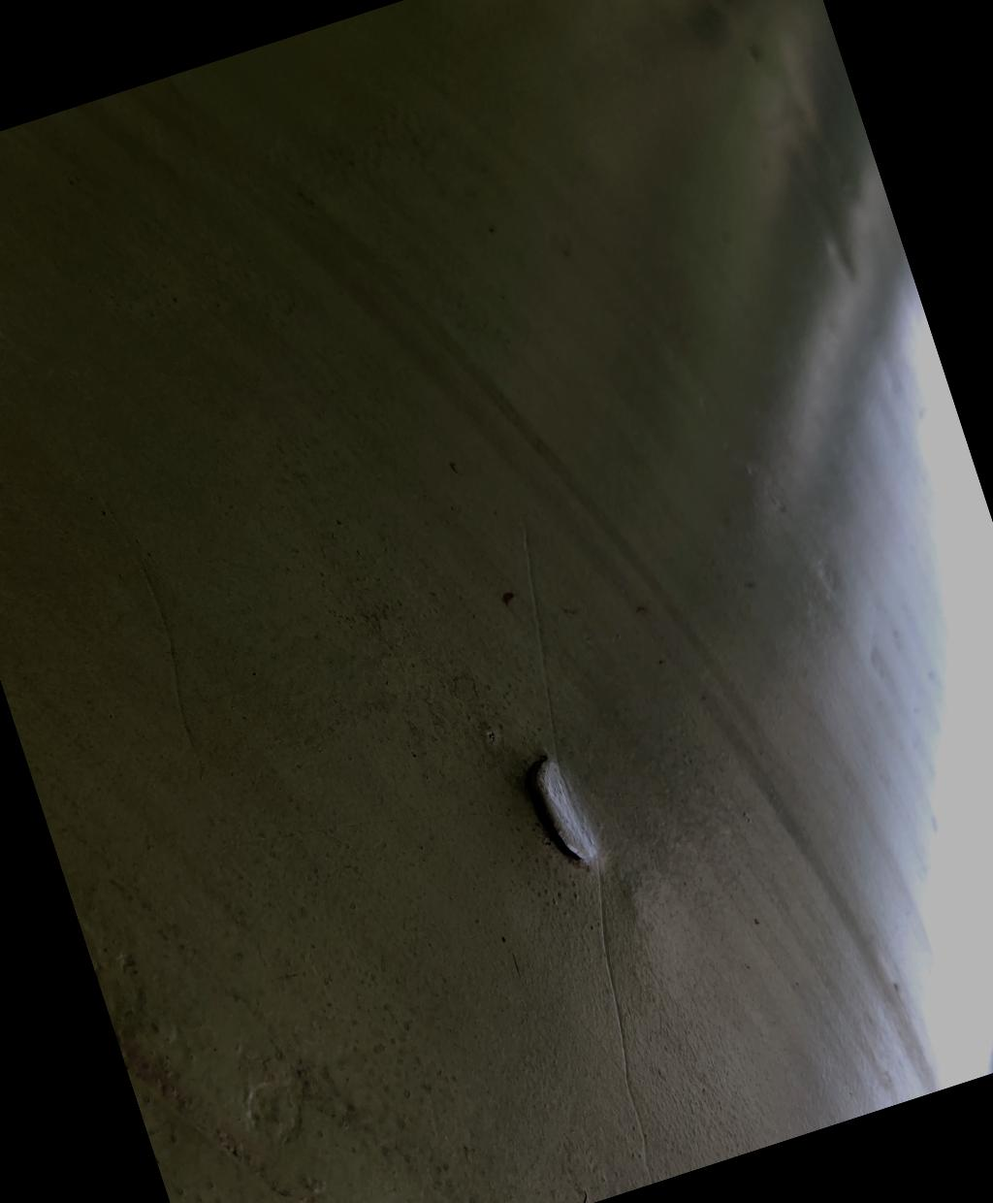crack: (480, 711, 638, 906)
